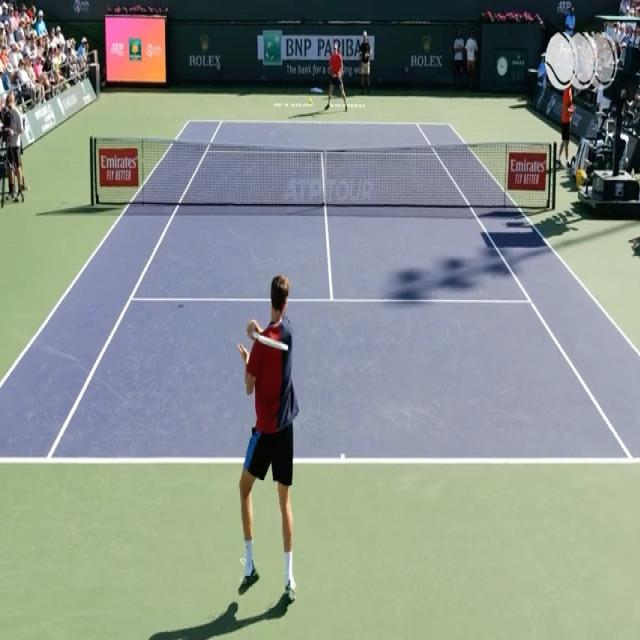forehand-finish: (228, 263, 310, 601)
